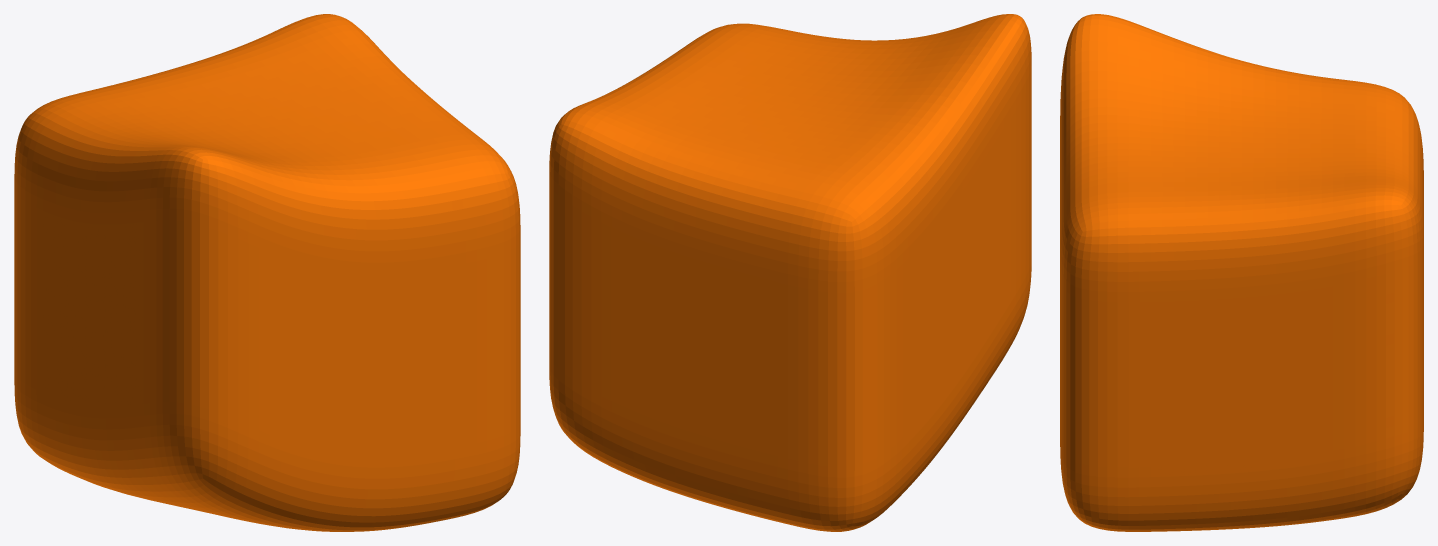
The picture shows the model from 3 angles, left to right: view 1: azimuth 30°, elevation 25°; view 2: azimuth 150°, elevation 25°; view 3: azimuth 270°, elevation 25°; orthographic projection. The views are drawn at different scales.
Parts seen in each view (by area): view 1: smooth_1_base.029; view 2: smooth_1_base.029; view 3: smooth_1_base.029.
Part boxes in pixels (left/top/right/bottom): smooth_1_base.029: left=14, top=14, right=520, bottom=531; smooth_1_base.029: left=549, top=14, right=1031, bottom=531; smooth_1_base.029: left=1060, top=14, right=1423, bottom=531.
Bounding box in the file's own units: 60 × 71.17 × 60.
